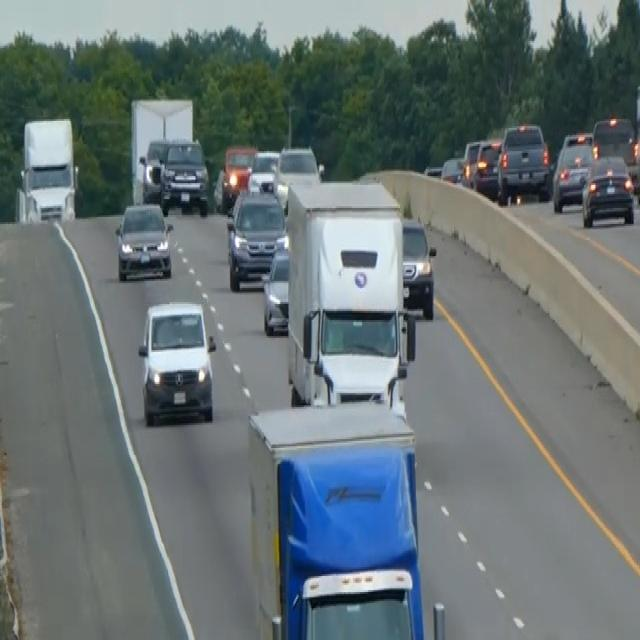car: (225, 186, 286, 290), (114, 199, 173, 281), (496, 119, 550, 203), (159, 135, 209, 215), (581, 153, 634, 227), (591, 114, 639, 192), (401, 215, 436, 320), (551, 130, 594, 212), (273, 144, 321, 208), (260, 238, 290, 334), (215, 142, 257, 210), (137, 137, 168, 201), (473, 137, 502, 197), (247, 148, 279, 194), (461, 137, 482, 187), (439, 155, 465, 183)
lorry: (283, 176, 418, 409), (15, 114, 79, 226)
minivan: (136, 295, 217, 427)
